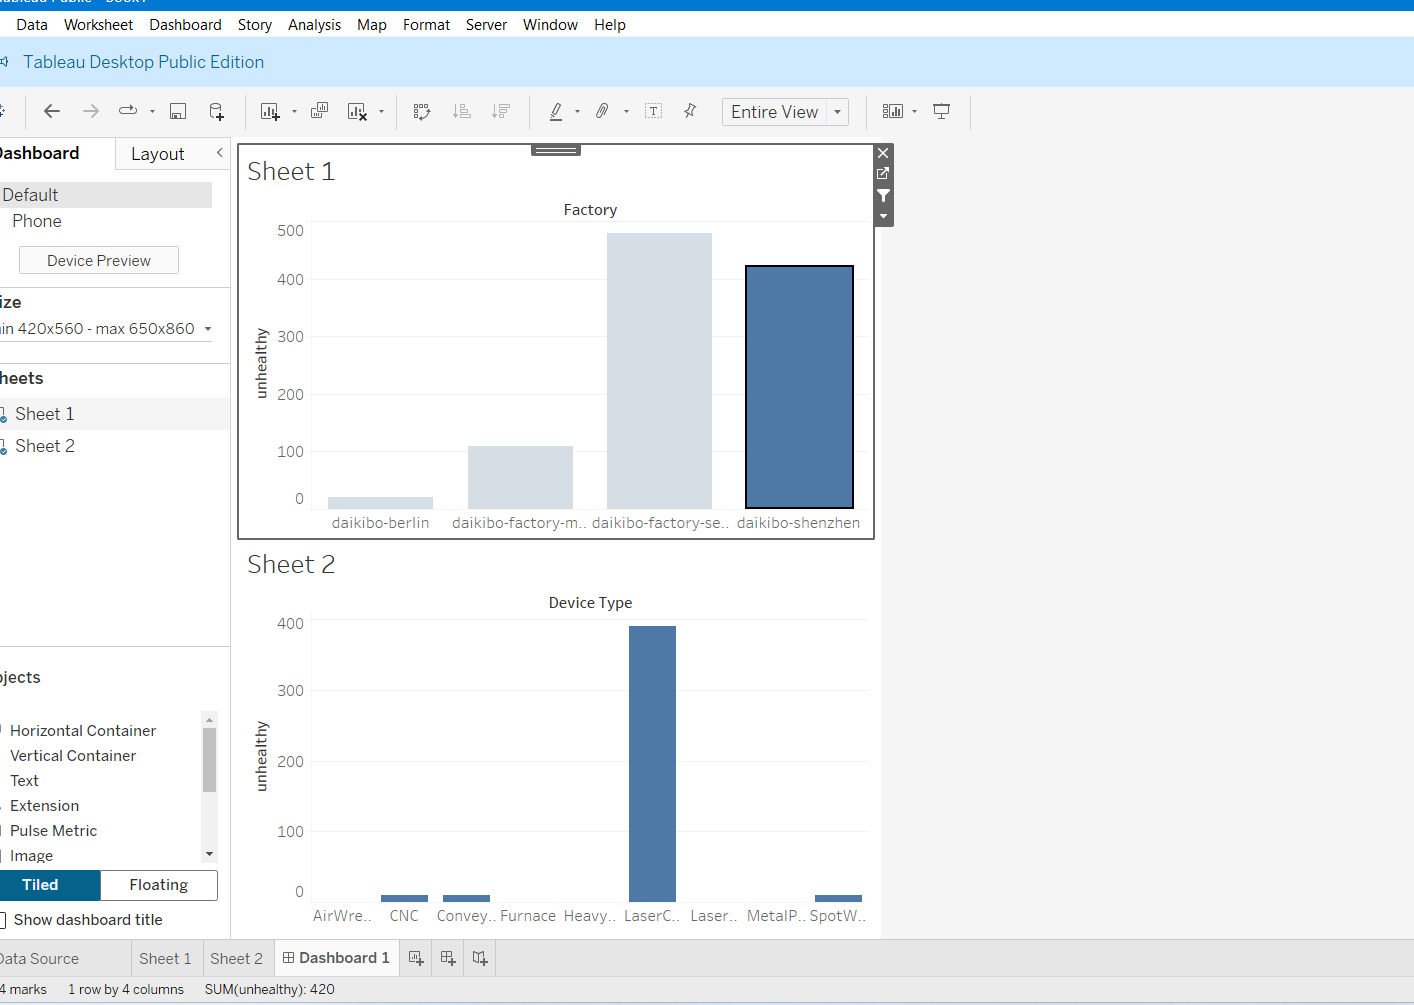

Layout of this report page (visuals, bound fields, positions):
{"tool":"tableau","page":{"name":"Dashboard 1","canvas":[650,860],"ordinal":0},"visuals":[{"type":"worksheet","title":"Sheet 1","mark":"Automatic","rows":["Calculation_1657606169957621760"],"cols":["factory"],"box":[8,11.1,634,418.9]},{"type":"worksheet","title":"Sheet 2","mark":"Automatic","rows":["Calculation_1657606169957621760"],"cols":["deviceType"],"box":[8,430,634,418.9]}]}

Visuals, with their boxes on the page's 650x860 design canvas (x1, y1, x2, y2). These are canvas units, not pixel positions in the 1414x1005 screenshot, which may show the page scaled, cropped or inside an application window:
"Sheet 1" worksheet: rect(8, 11, 642, 430)
"Sheet 2" worksheet: rect(8, 430, 642, 849)
